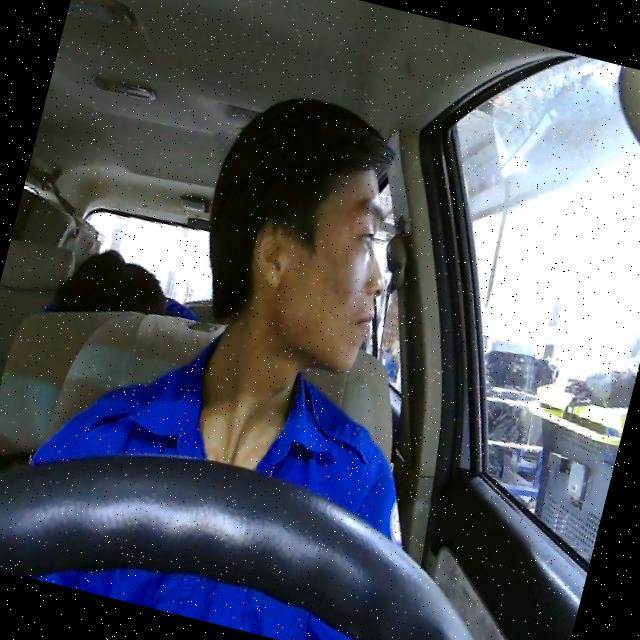seeing_right: (226, 138, 413, 383)
